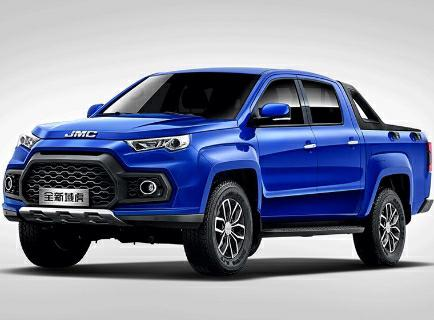江铃-域虎: (1, 58, 433, 282)
